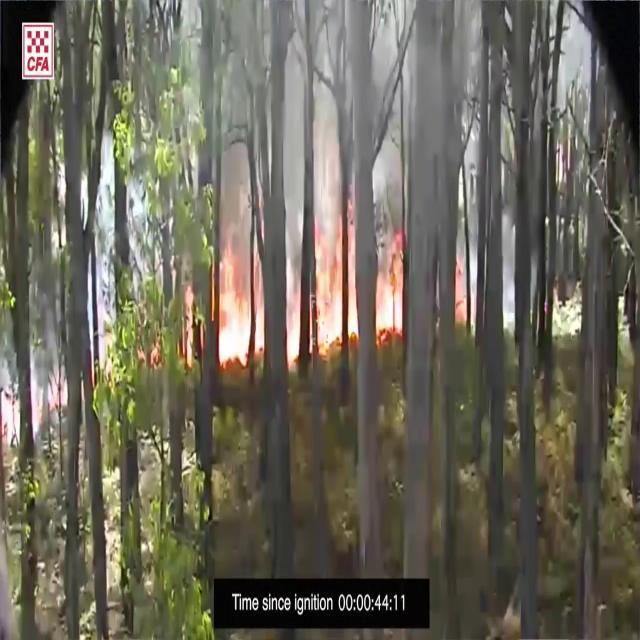Fire: (376, 228, 406, 344)
Smoke: (208, 0, 458, 249)
